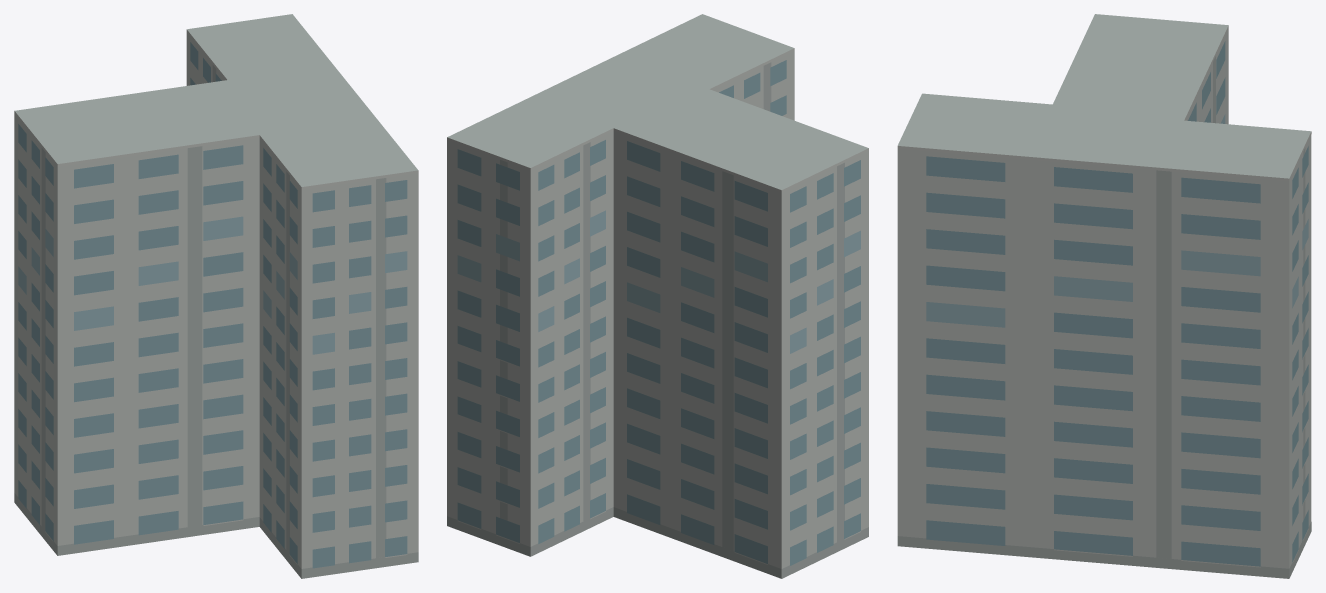
Rendered from residential-518e5988-f346-41ef-9d8a-a5708f30fc61.glb.
3 renders of one model, left to right at view 1: azimuth 30°, elevation 25°; view 2: azimuth 150°, elevation 25°; view 3: azimuth 270°, elevation 25°, orthographic. The views are drawn at different scales.
Visible parts, largest first — view 1: residential-518e5988-f346-41ef-9d8a-a5708f30fc61.tmp; view 2: residential-518e5988-f346-41ef-9d8a-a5708f30fc61.tmp; view 3: residential-518e5988-f346-41ef-9d8a-a5708f30fc61.tmp.
Part boxes in pixels (x1=…): residential-518e5988-f346-41ef-9d8a-a5708f30fc61.tmp: x1=14, y1=14, x2=418, y2=578; residential-518e5988-f346-41ef-9d8a-a5708f30fc61.tmp: x1=447, y1=14, x2=868, y2=578; residential-518e5988-f346-41ef-9d8a-a5708f30fc61.tmp: x1=897, y1=14, x2=1311, y2=578.
Size of the model in its own units: 29.99 by 34 by 31.87.
